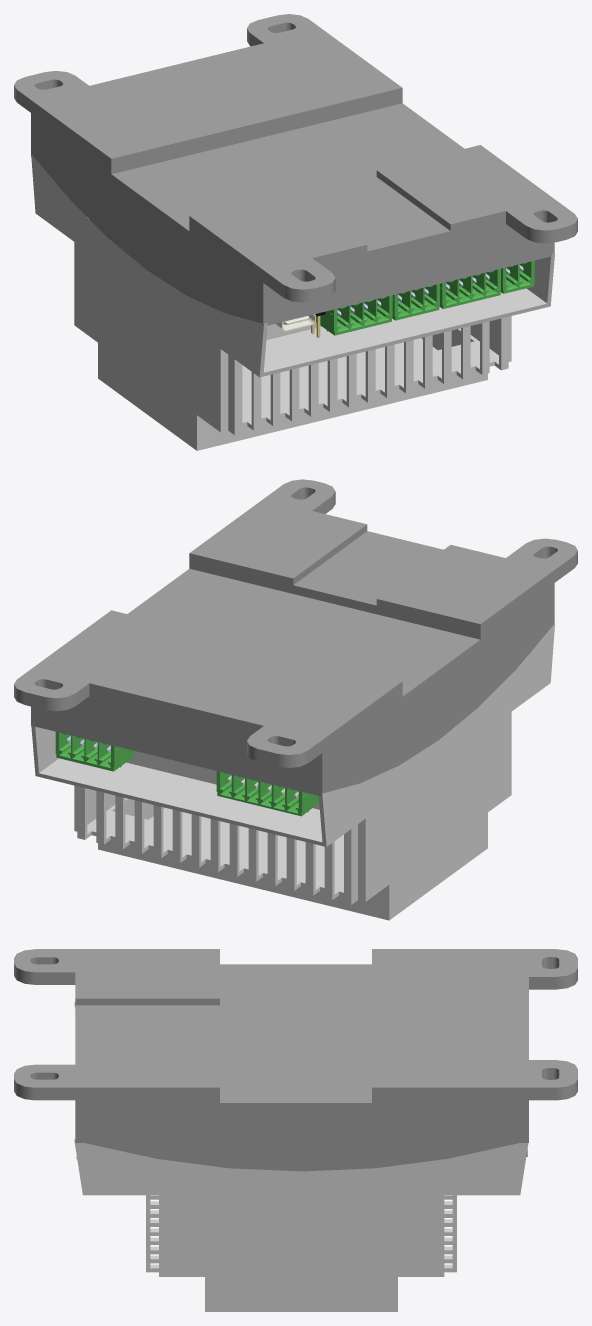
File: CCS1.glb
The picture shows the model from 3 angles, top to bottom: view 1: azimuth 30°, elevation 25°; view 2: azimuth 150°, elevation 25°; view 3: azimuth 270°, elevation 25°; orthographic projection. The views are drawn at different scales.
Parts seen in each view (by area): view 1: Сборка2, pcb-1; view 2: Сборка2, pcb-1; view 3: Сборка2.
Boxes of the visible parts, left/top/right/bottom form: Сборка2: left=14, top=14, right=577, bottom=450; pcb-1: left=274, top=260, right=534, bottom=337; Сборка2: left=14, top=479, right=577, bottom=920; pcb-1: left=55, top=732, right=319, bottom=816; Сборка2: left=14, top=949, right=577, bottom=1311.
Bounding box in the file's own units: 0.0765 × 0.0576 × 0.1315.
